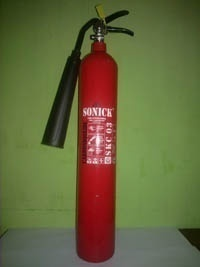fire_extinguisher: (41, 4, 134, 263)
